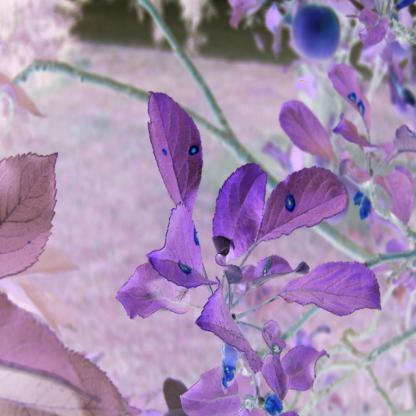Apple rust leaf: (258, 154, 360, 252), (144, 90, 212, 210), (140, 216, 226, 301)
